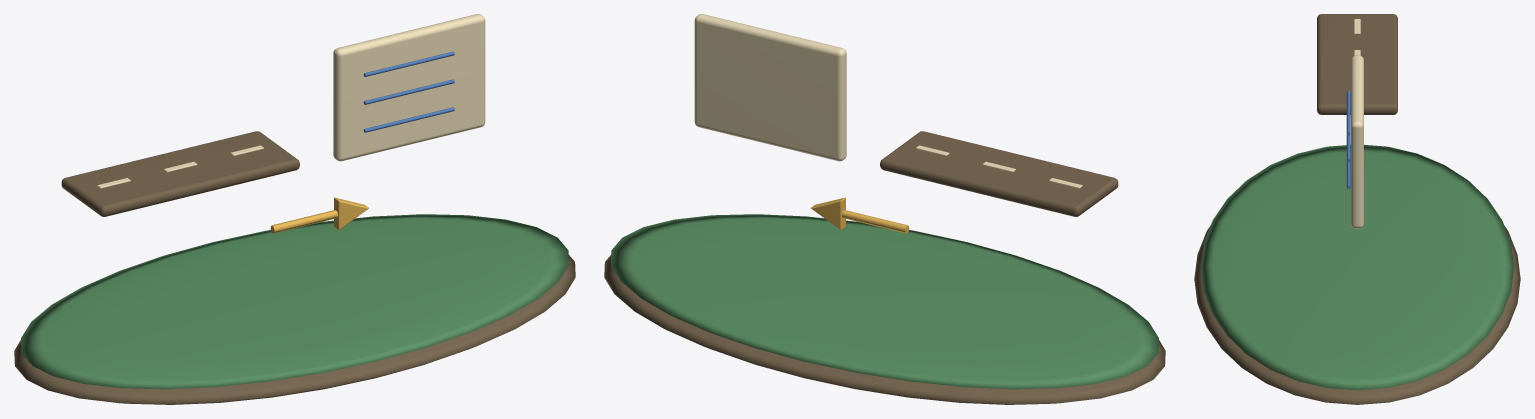
File: complete-first-this-near-writing.glb
3 views of the same model, side by side, from view 1: azimuth 30°, elevation 25°; view 2: azimuth 150°, elevation 25°; view 3: azimuth 270°, elevation 25° (orthographic). The views are drawn at different scales.
Parts seen in each view (by area): view 1: complete-first-this-near-writing_surface_01, complete-first-this-near-writing_surface_00, complete-first-this-near-writing_surface_02, complete-first-this-near-writing_surface_03, complete-first-this-near-writing_surface_04; view 2: complete-first-this-near-writing_surface_01, complete-first-this-near-writing_surface_00, complete-first-this-near-writing_surface_02, complete-first-this-near-writing_surface_04; view 3: complete-first-this-near-writing_surface_01, complete-first-this-near-writing_surface_00, complete-first-this-near-writing_surface_02, complete-first-this-near-writing_surface_03.
Boxes of the visible parts, x1,y1,x2,y2 form: complete-first-this-near-writing_surface_01: (21,214,568,389); complete-first-this-near-writing_surface_00: (14,131,575,404); complete-first-this-near-writing_surface_02: (97,14,485,188); complete-first-this-near-writing_surface_03: (363,51,454,132); complete-first-this-near-writing_surface_04: (270,197,368,233); complete-first-this-near-writing_surface_01: (611,214,1158,389); complete-first-this-near-writing_surface_00: (604,131,1165,404); complete-first-this-near-writing_surface_02: (694,14,1082,188); complete-first-this-near-writing_surface_04: (811,197,909,233); complete-first-this-near-writing_surface_01: (1201,144,1513,390); complete-first-this-near-writing_surface_00: (1194,14,1520,404); complete-first-this-near-writing_surface_02: (1351,19,1363,228); complete-first-this-near-writing_surface_03: (1346,91,1350,188).
Size of the model in its own units: 4.56 by 2.19 by 2.5.
